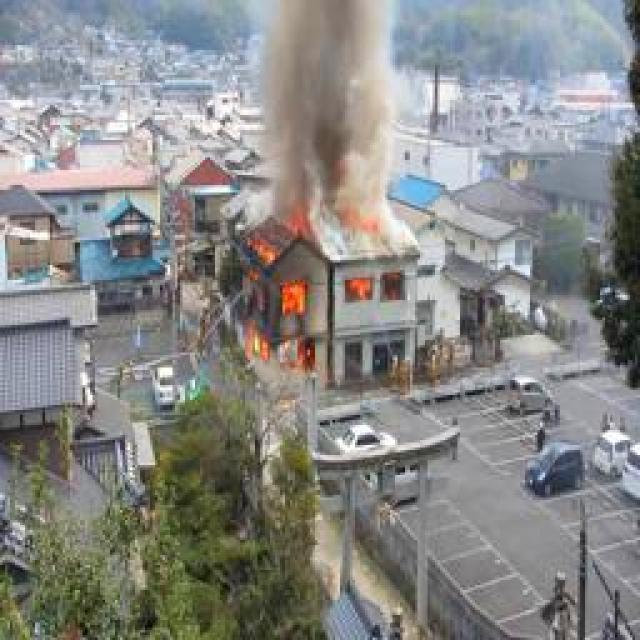Fire: (237, 256, 311, 370), (337, 279, 378, 304)
